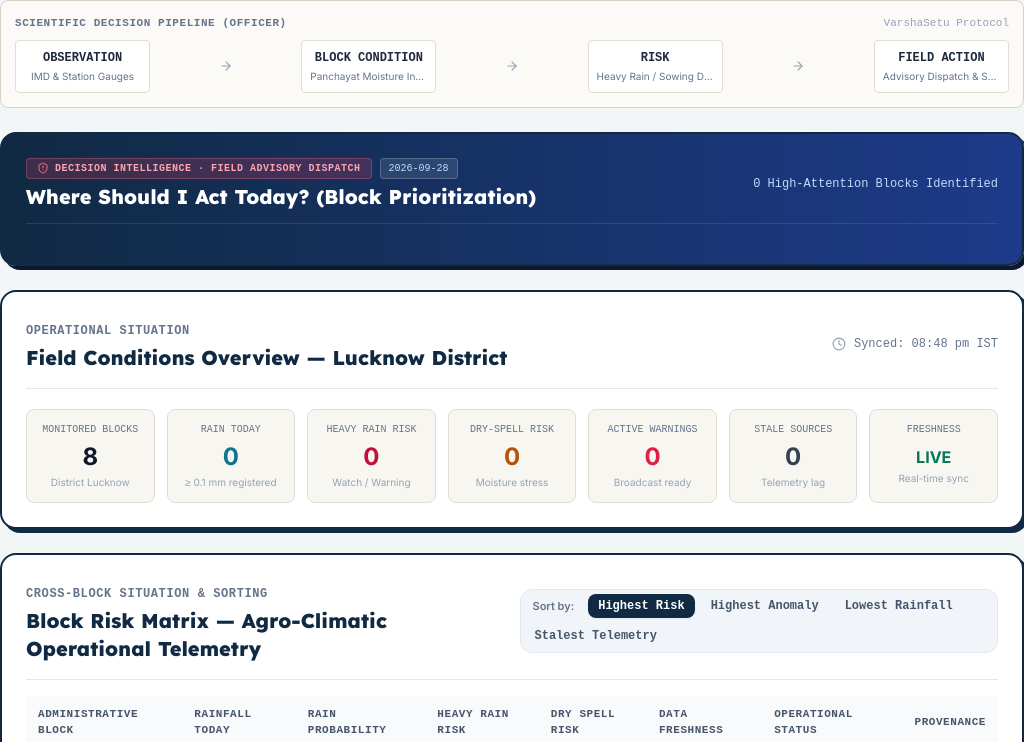
Test case: Phase 12: Temporal Consistency & Decision Intelligence Test Suite › 7. OfficerFieldIntelligence renders Where Should I Act prioritization and sortable matrix
Expected: the heading "Where Should I Act Today? (Block Prioritization)" is shown, top-left (26, 182), bottom-right (536, 210)
Expected: the heading "Block Risk Matrix — Agro-Climatic Operational Telemetry" is shown, top-left (26, 608), bottom-right (387, 660)
# Test sort button interaction
Click the button "Highest Anomaly".
click(765, 606)  # box top-left (701, 594), bottom-right (829, 618)
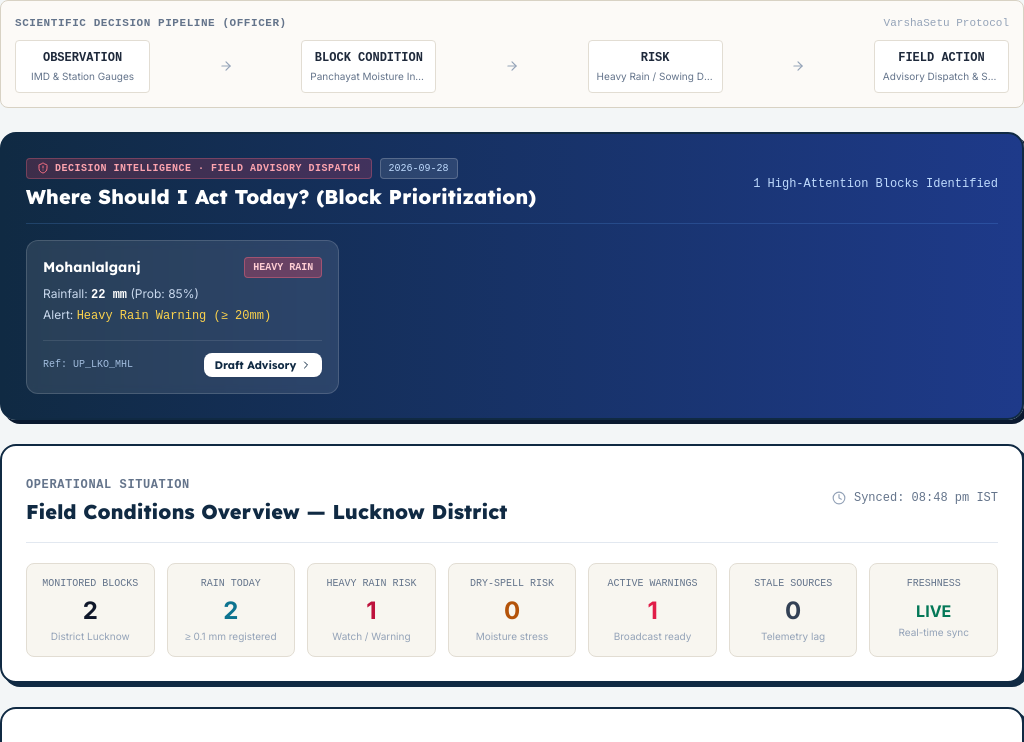
# Test Draft Advisory action
Click the button "Draft Advisory".
click(263, 365)  # box top-left (204, 352), bottom-right (322, 377)
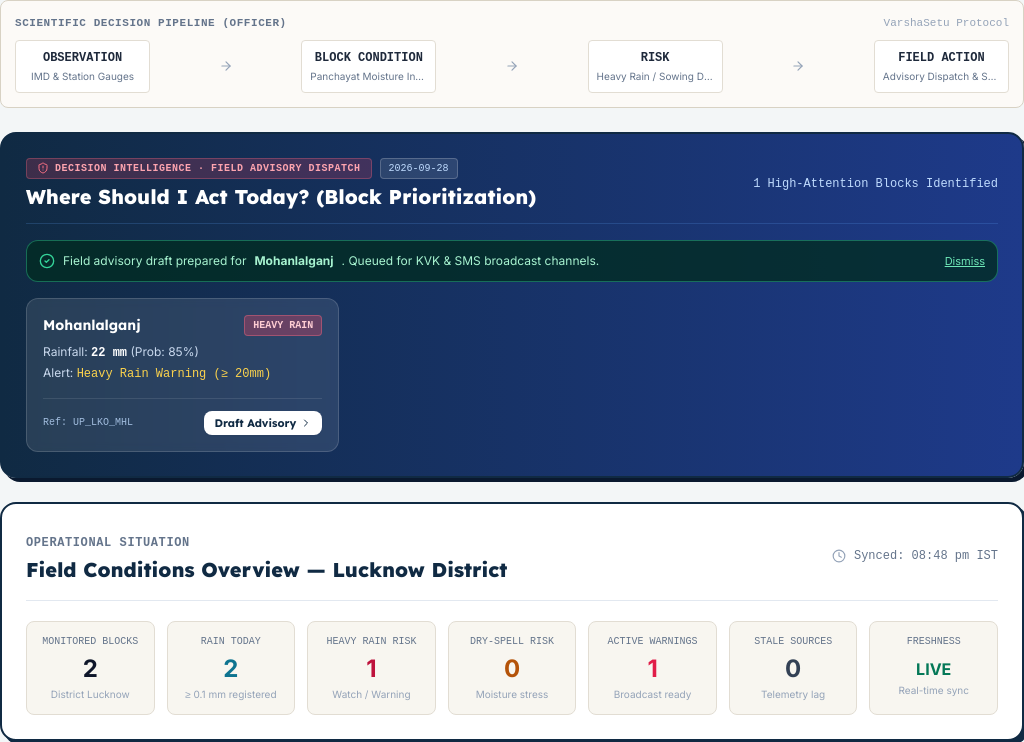
Now the text "Field advisory draft prepared for" is shown, box top-left (63, 252), bottom-right (246, 268)
